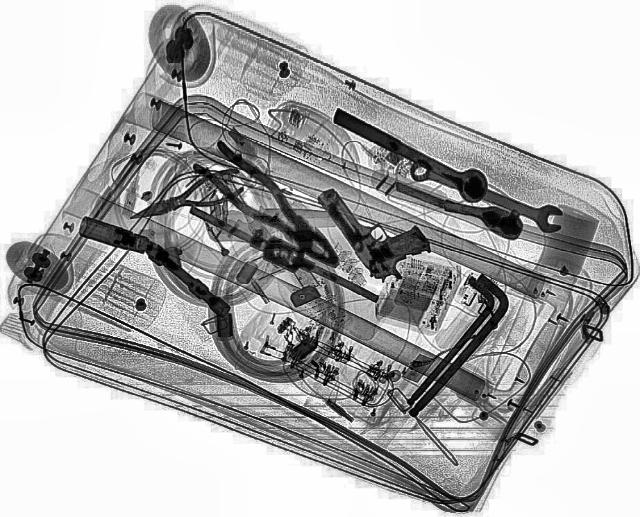Gun: (310, 170, 442, 286)
Pliers: (184, 135, 356, 279), (123, 164, 253, 232)
Wrench: (400, 157, 572, 235)
